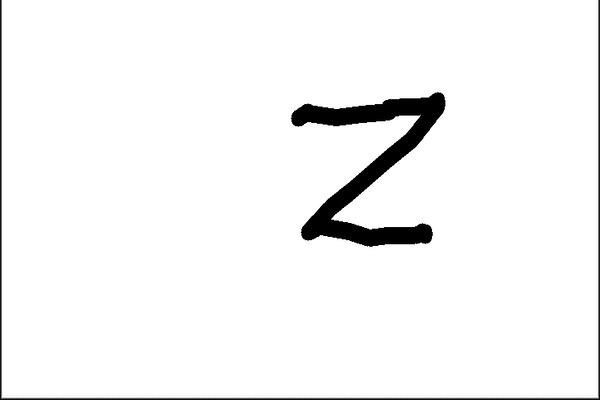Z: (285, 86, 447, 253)
